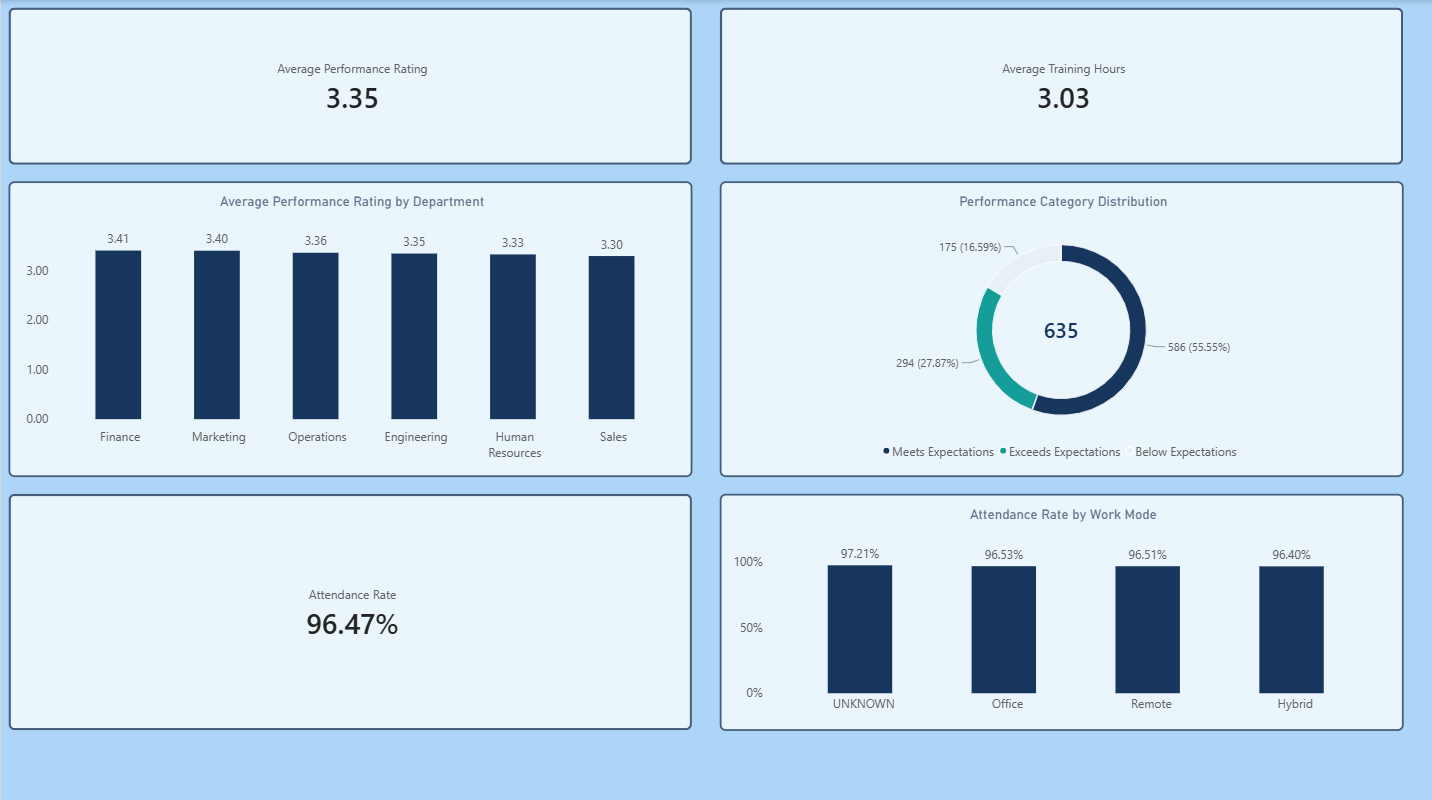

This screenshot's page, from the dashboard's own definition file:
{"tool":"powerbi","page":{"name":"Performance & Attendance.","canvas":[1920,1080],"ordinal":3},"visuals":[{"type":"cardVisual","fields":{"Data":["Performance.Average Performance Rating"]},"box":[10,10,913.3,210],"z":0},{"type":"cardVisual","fields":{"Data":["Performance.Average Training Hours"]},"box":[960,10,913.3,210],"z":1000},{"type":"columnChart","fields":{"Category":["Departments.Department"],"Y":["Performance.Average Performance Rating"]},"box":[10,242.5,913.3,395],"z":2000},{"type":"donutChart","title":"Performance Category Distribution","fields":{"Category":["Performance.Performance_Category"],"Y":["Count(Performance.Employee_ID)"]},"box":[960,242.5,913.3,395],"z":3000},{"type":"cardVisual","fields":{"Data":["Attendance.Attendance Rate"]},"box":[10,660,913.3,316],"z":4000},{"type":"clusteredColumnChart","title":"Attendance Rate by Work Mode","fields":{"Category":["Locations.Work_Mode"],"Y":["Attendance.Attendance Rate"]},"box":[960,660,913.3,316.7],"z":5000}]}

Visuals, with their boxes in screenshot pixels (x1, y1, x2, y2), scaled from the page's 1920x1080 canvas onto the 1432x800 screenshot:
cardVisual - Performance.Average Performance Rating: [7,7,689,163]
cardVisual - Performance.Average Training Hours: [716,7,1397,163]
columnChart - Departments.Department x Performance.Average Performance Rating: [7,180,689,472]
"Performance Category Distribution" donutChart: [716,180,1397,472]
cardVisual - Attendance.Attendance Rate: [7,489,689,723]
"Attendance Rate by Work Mode" clusteredColumnChart: [716,489,1397,723]
